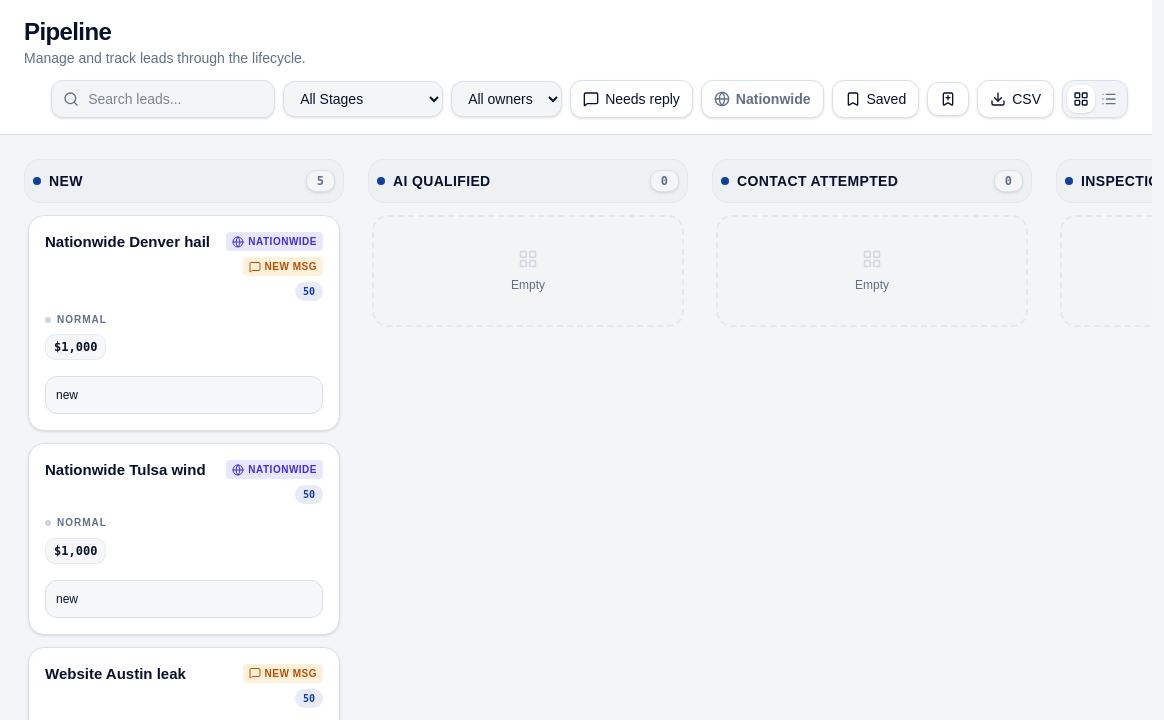
Test: Pipeline compound filters › Nationwide + Needs-reply narrows the API query and shows only nationwide leads with unread messages
This screenshot has width=1164, height=720.
Expected: the link "Nationwide Denver hail" is shown, left=45, top=232, right=210, bottom=253
Expected: the link "Nationwide Tulsa wind" is shown, left=45, top=460, right=206, bottom=481
What coordinates should you click on to do the following:
click the button with test id "nationwide-filter"
I would click on:
 (762, 99)
Its box is left=701, top=80, right=824, bottom=118.
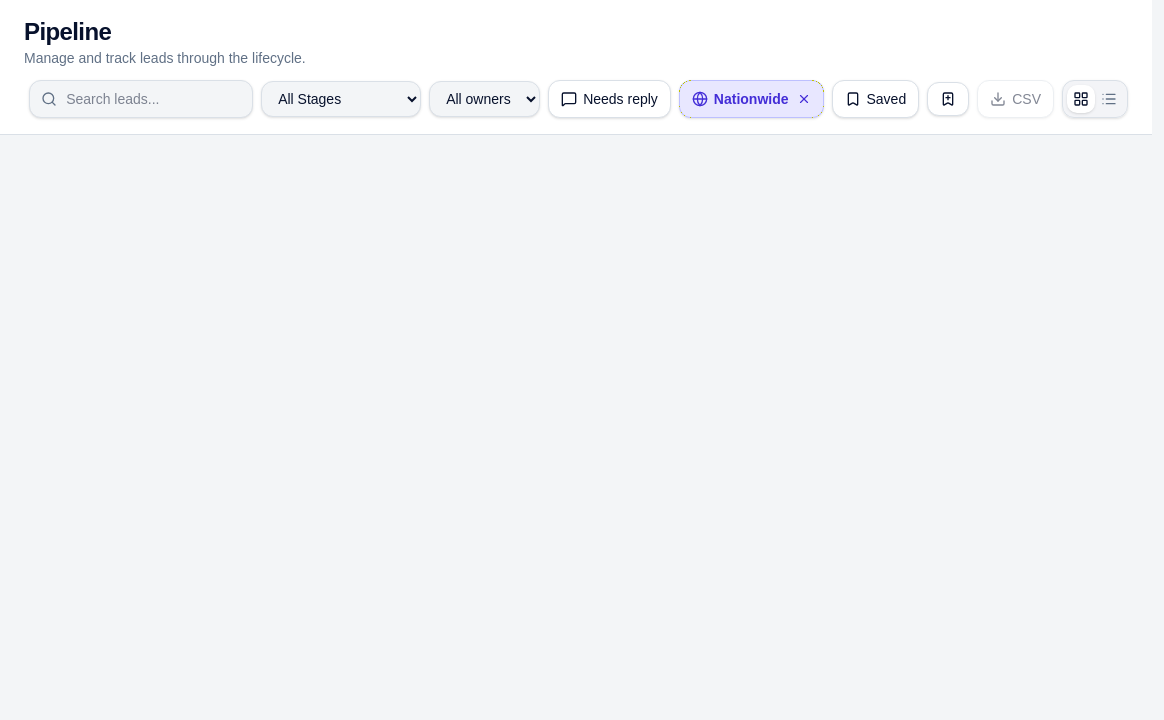
What coordinates should you click on to do the following:
click the button with test id "needs-reply-filter"
I would click on:
 (609, 99)
Its box is left=548, top=80, right=671, bottom=118.
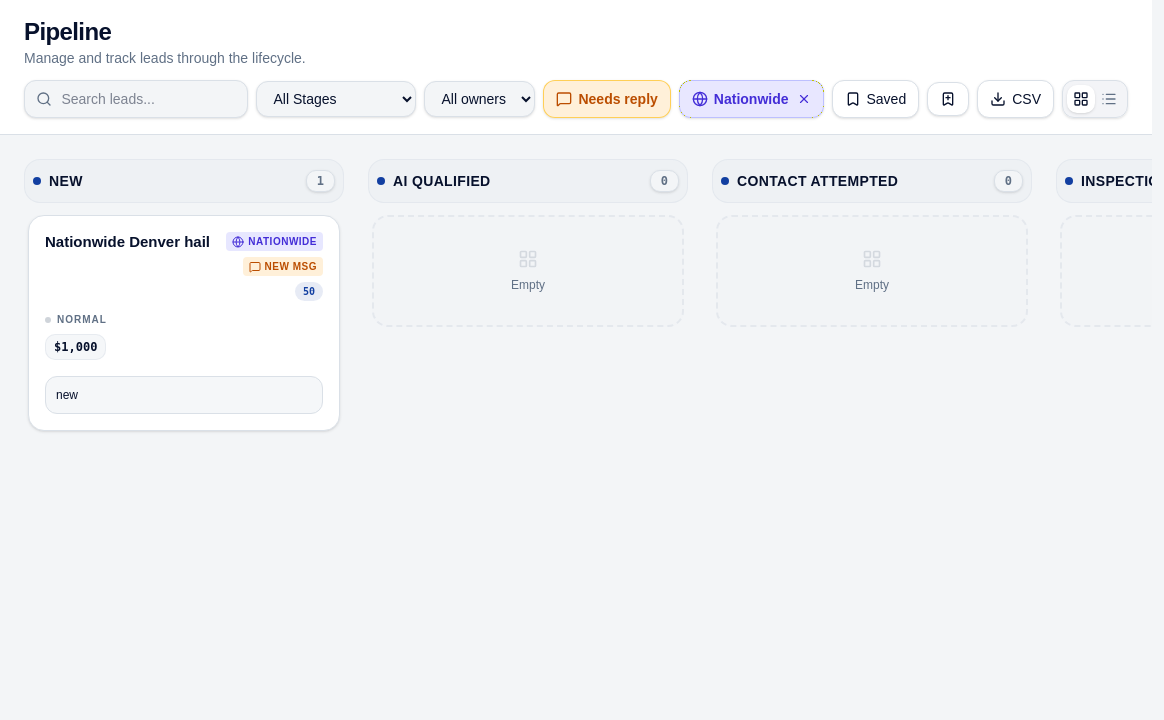
Expected: the link "Nationwide Tulsa wind" is not shown
Expected: the link "Nationwide Denver hail" is shown, left=45, top=232, right=210, bottom=253
